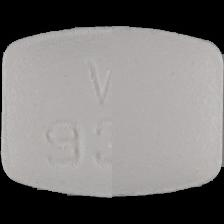33261-562: (0, 0, 224, 224)
